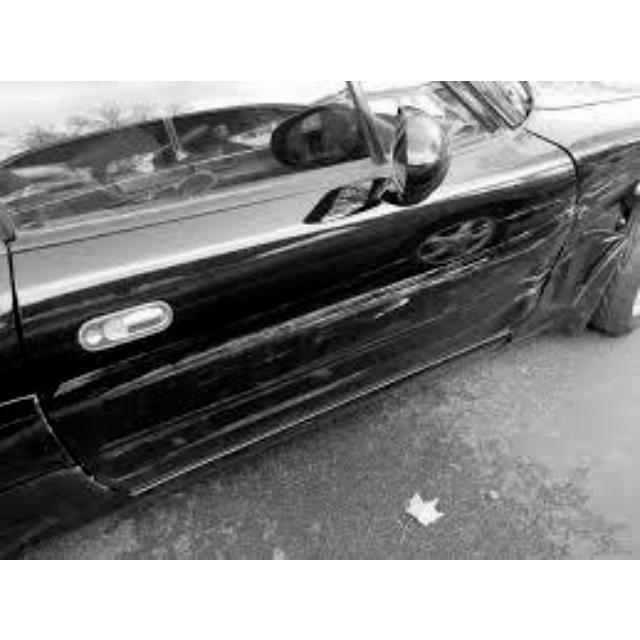doorouter-dent: (112, 123, 546, 476)
